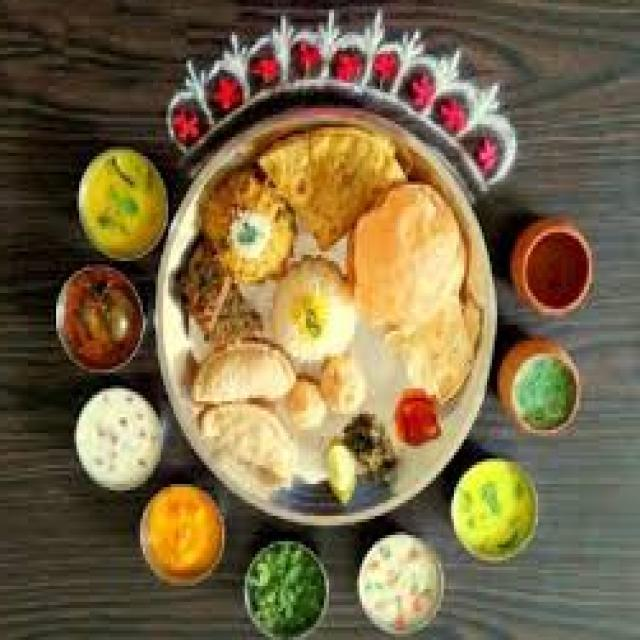papad: (352, 179, 480, 363)
pickle: (385, 383, 454, 457)
rice: (259, 257, 365, 371)
